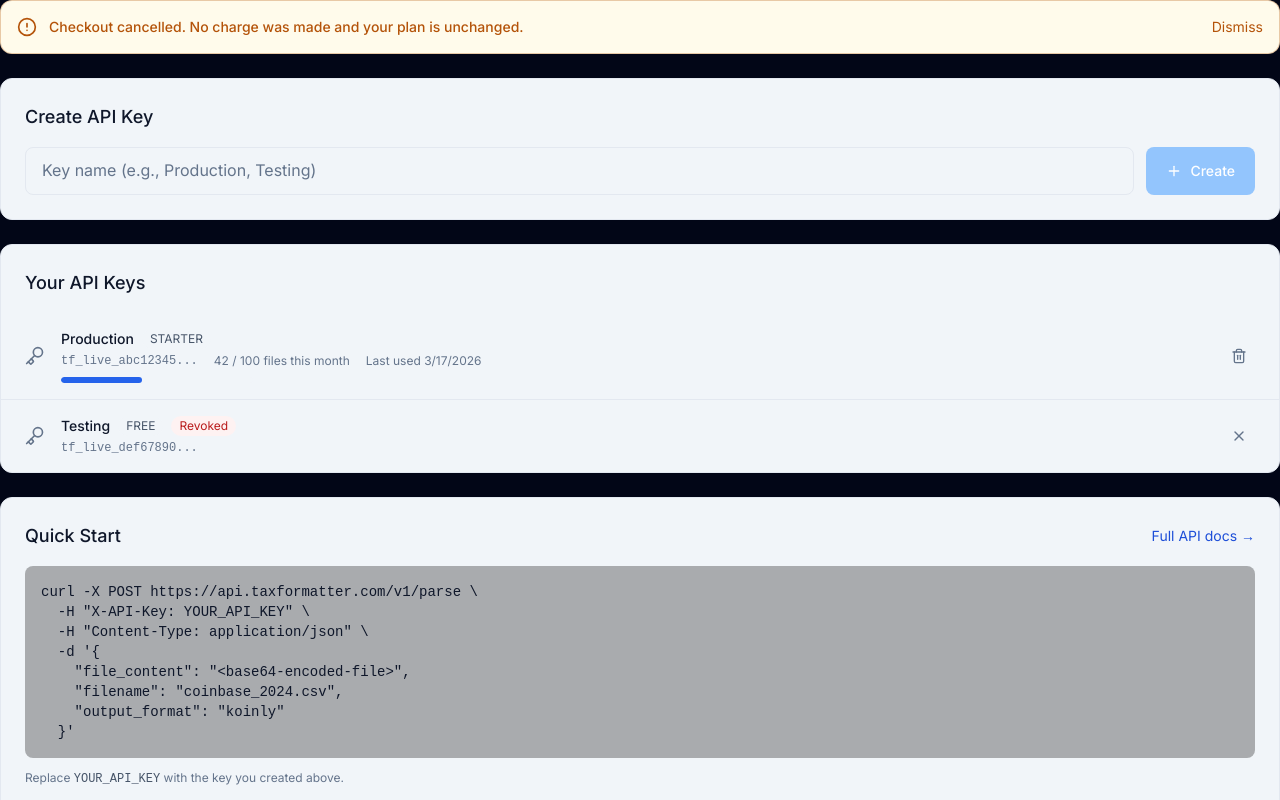
Test: ApiKeyManager › Checkout return states › shows a dismissible notice when Stripe sends the user back with checkout=cancelled
The width and height of the screenshot is (1280, 800).
Expected: the text "Checkout cancelled" is shown, [49,18,524,35]
Click the button "Dismiss".
click(1237, 27)  # box [1212,17,1263,37]
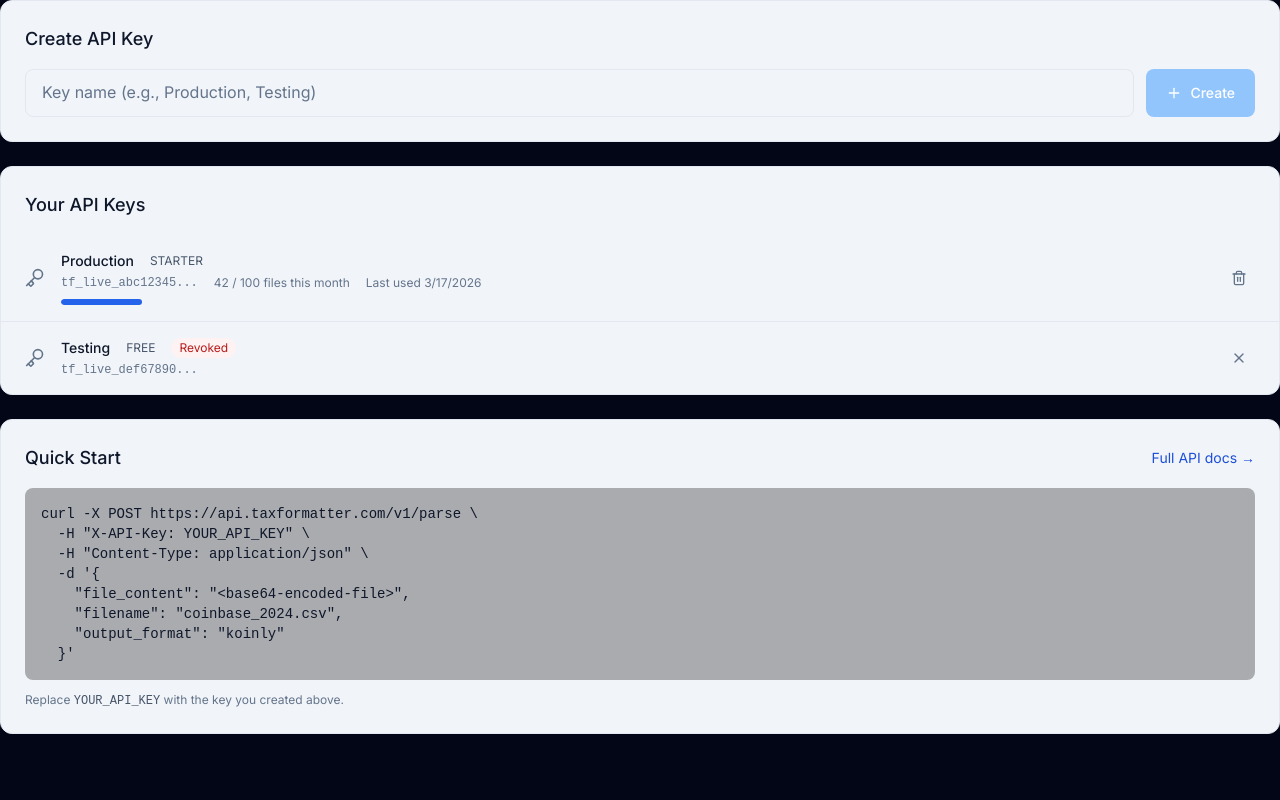
Expected: the text "Checkout cancelled" is gone
